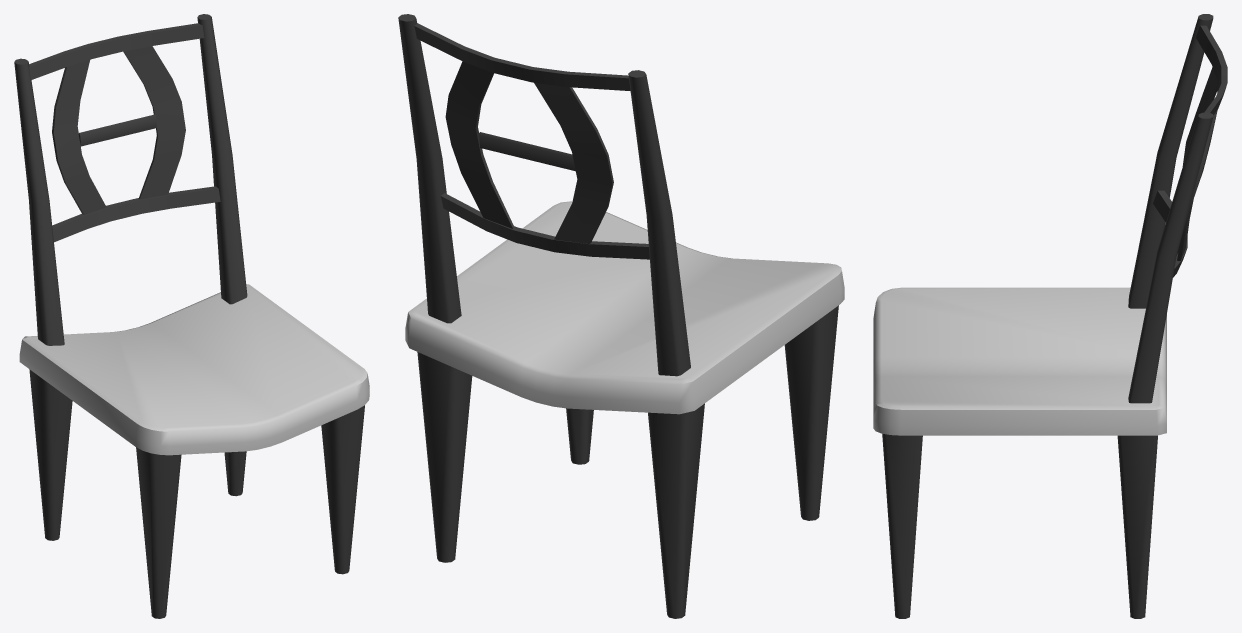
The model's file is Chair-5.fbx.
3 views of the same model, side by side, from view 1: azimuth 30°, elevation 25°; view 2: azimuth 150°, elevation 25°; view 3: azimuth 270°, elevation 25° (orthographic). The views are drawn at different scales.
Visible parts, largest first — view 1: Chair-5; view 2: Chair-5; view 3: Chair-5.
Boxes of the visible parts, <box> form: Chair-5: <box>14,14,369,618</box>; Chair-5: <box>398,14,844,618</box>; Chair-5: <box>873,14,1227,618</box>.
Size of the model in its own units: 0.5 by 0.9402 by 0.6031.
